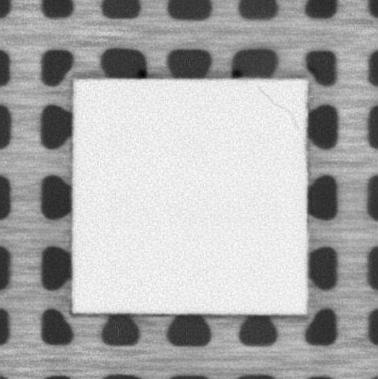DIE_CRACK: (256, 85, 299, 130)
